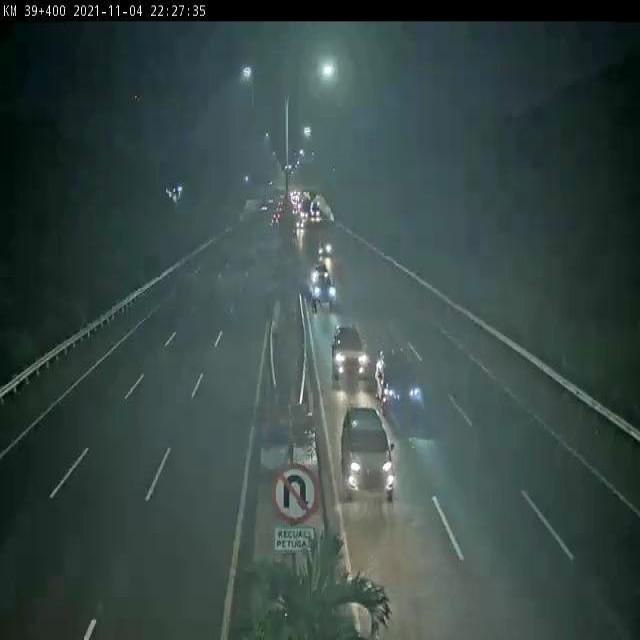car: (339, 404, 394, 496), (375, 343, 423, 412), (332, 326, 366, 378), (311, 272, 337, 308)
